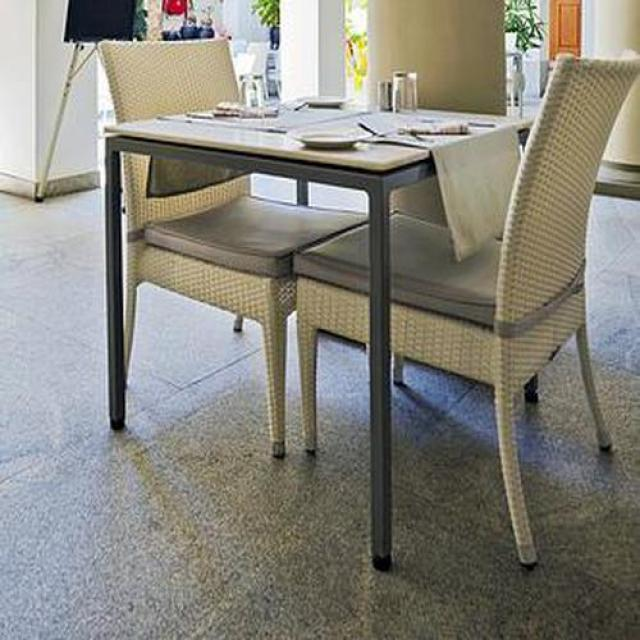table: (101, 109, 535, 573)
